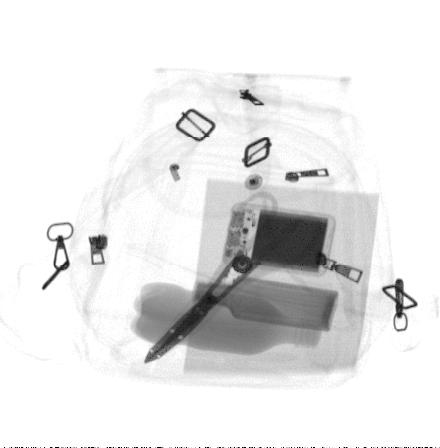Powerbank: (223, 202, 334, 278)
Scissors: (144, 190, 324, 364)
